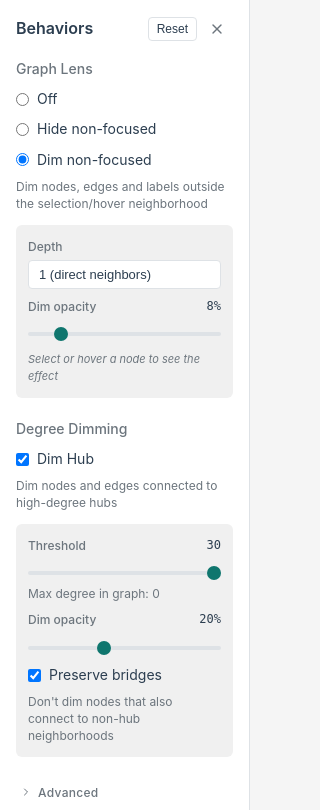
it: BehaviorPanel › advanced toggle reveals hidden sections
The image size is (320, 810).
Click the text "Advanced" at (68, 792), box x1=38 y1=783 x2=99 y2=802
(page scrolled)
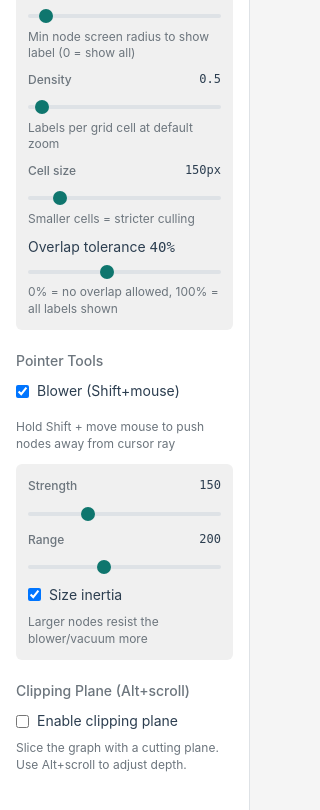
Check: the heading "Pointer Tools" is shown, box x1=16 y1=352 x2=103 y2=369
Check: the heading "Clipping Plane (Alt+scroll)" is shown, box x1=16 y1=682 x2=190 y2=698
